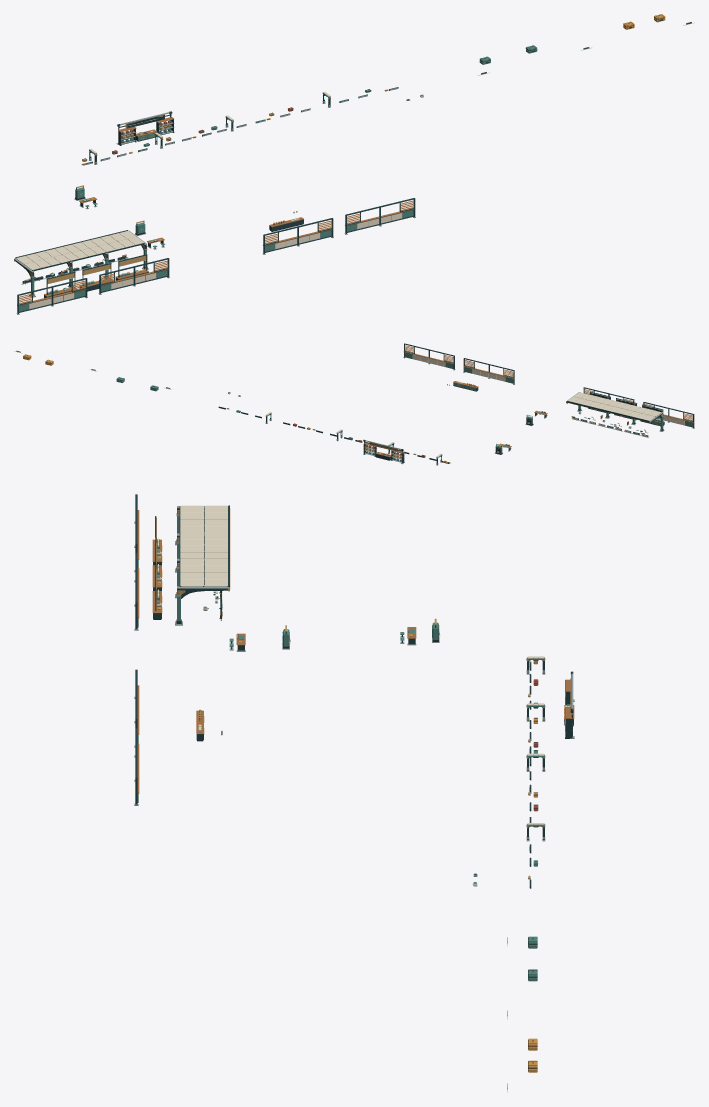
The model's file is port-station-fittings.glb.
3 views of the same model, one above another, from view 1: azimuth 30°, elevation 25°; view 2: azimuth 150°, elevation 25°; view 3: azimuth 270°, elevation 25° (orthographic). The views are drawn at different scales.
Parts seen in each view (by area): view 1: Arrival wall crossbeam, Document wallet.001, Ash sunshade blade, Column folded jacket, Arcade column footing, Anchor bolt, Bar back counter plinth; view 2: Document wallet.001, Arrival wall crossbeam, Ash sunshade blade, Column folded jacket, Arcade column footing, Bar back counter plinth, Anchor bolt; view 3: Document wallet.001, Arrival wall crossbeam, Ash sunshade blade, Column folded jacket, Arcade column footing.
Boxes of the visible parts, x1,y1,x2,y2 form: Arrival wall crossbeam: (15, 87, 415, 313); Document wallet.001: (16, 91, 423, 309); Ash sunshade blade: (17, 117, 414, 305); Column folded jacket: (19, 45, 537, 311); Arcade column footing: (14, 22, 694, 314); Anchor bolt: (14, 22, 690, 296); Bar back counter plinth: (23, 14, 664, 296); Document wallet.001: (228, 354, 684, 457); Arrival wall crossbeam: (218, 343, 694, 464); Ash sunshade blade: (364, 345, 693, 457); Column folded jacket: (116, 352, 693, 461); Arcade column footing: (14, 351, 694, 465); Bar back counter plinth: (23, 355, 663, 462); Anchor bolt: (16, 350, 662, 458); Document wallet.001: (157, 505, 570, 885); Arrival wall crossbeam: (135, 494, 573, 888); Ash sunshade blade: (137, 510, 574, 793); Column folded jacket: (137, 516, 569, 981); Arcade column footing: (134, 506, 574, 1092).
Size of the model in its own units: 157 by 4.91 by 50.95.
13 materials, 1 textured.
